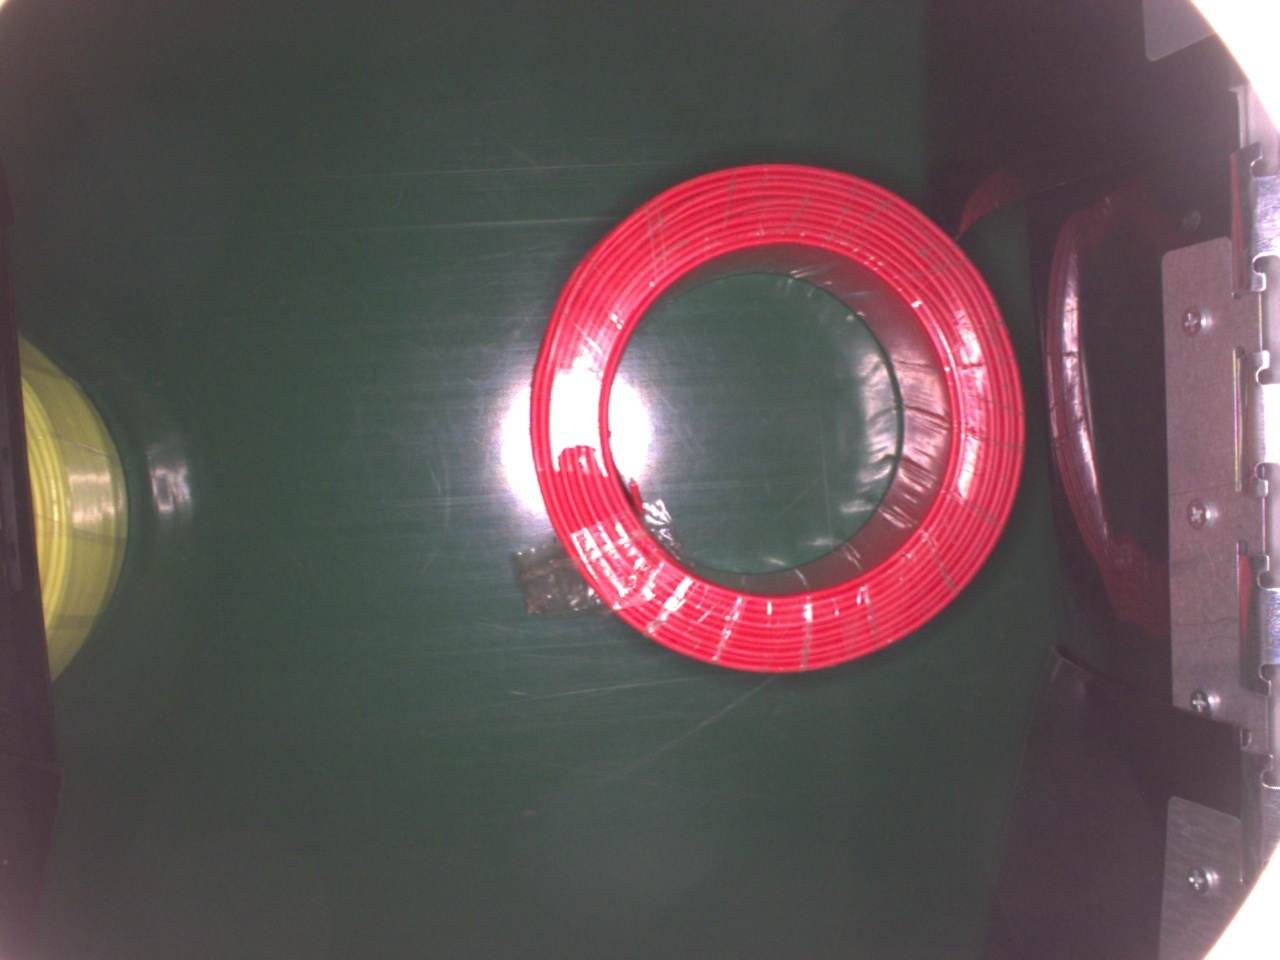red: (520, 158, 1025, 670)
